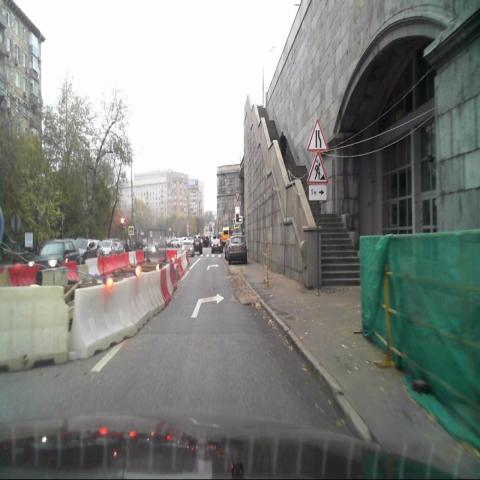1_20_2: (306, 118, 329, 151)
8_1_3: (309, 184, 327, 201)
